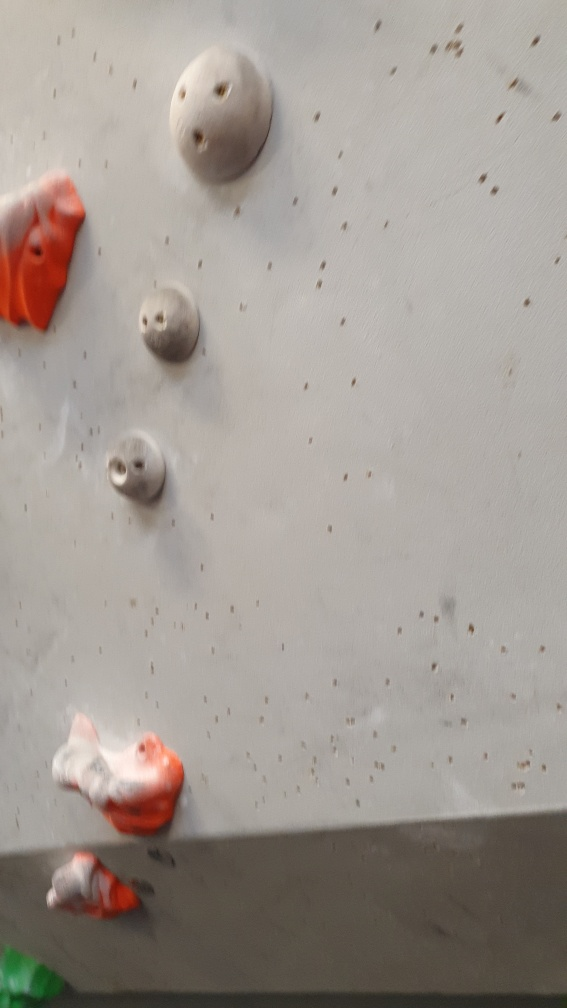Hand Start: (146, 842, 179, 874), (128, 873, 157, 900)
Jug: (51, 705, 189, 836), (1, 163, 91, 332)
Sloper: (166, 41, 276, 186), (134, 280, 205, 365), (101, 429, 173, 505)
